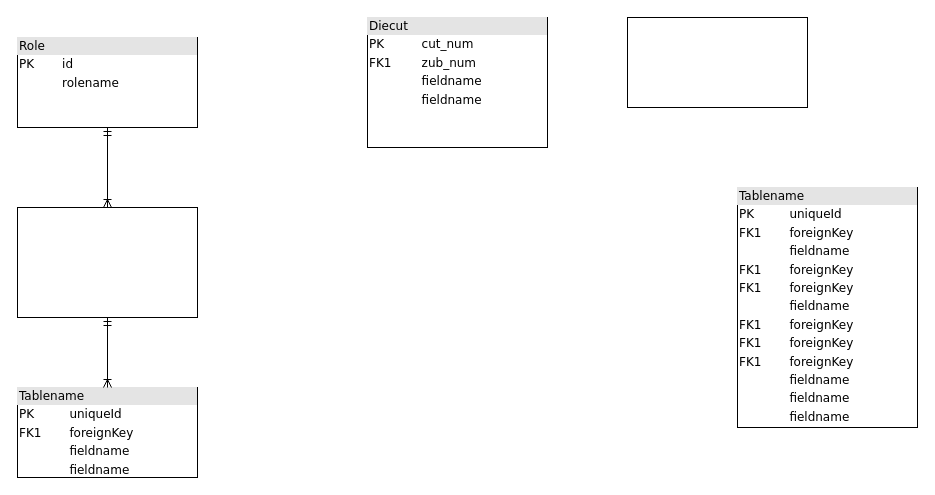
This 935x495 diagram has some shape labels left out. Here are the shapes that lost their labels. From the top down, the centre of each, then its label:
the point at 717,62: Zub PK zub_num FK1 foreignKey fieldname
the point at 107,262: User PK id FK1 role_id name password email
